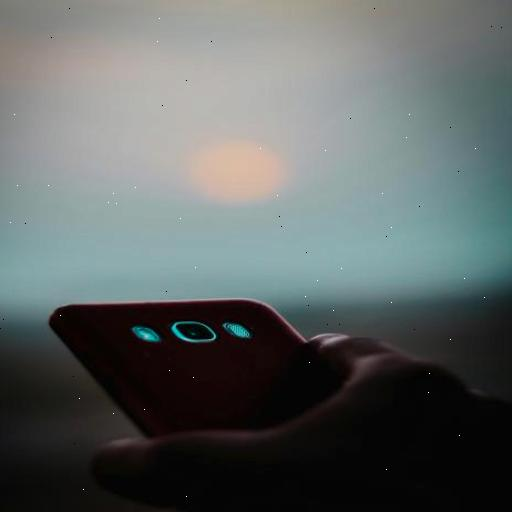phone: (22, 298, 292, 446)
